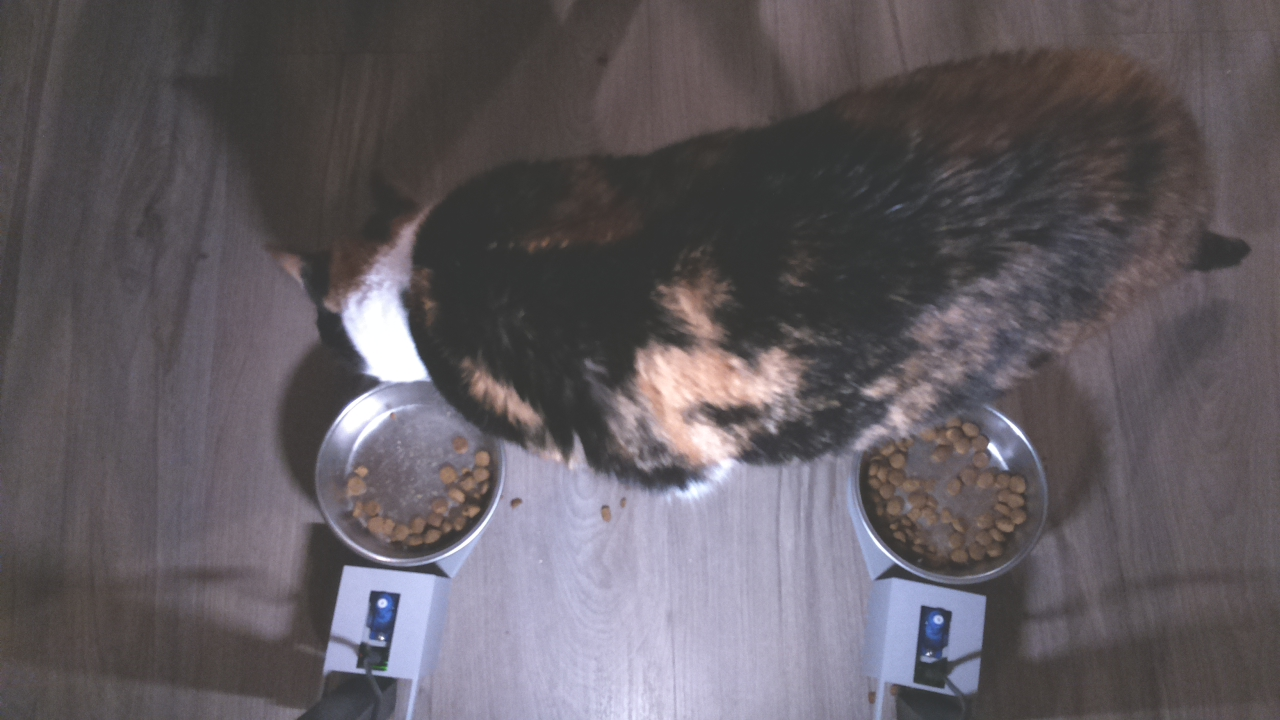bella: (256, 159, 505, 404)
open_bowl: (311, 386, 513, 570), (858, 421, 1056, 586)
